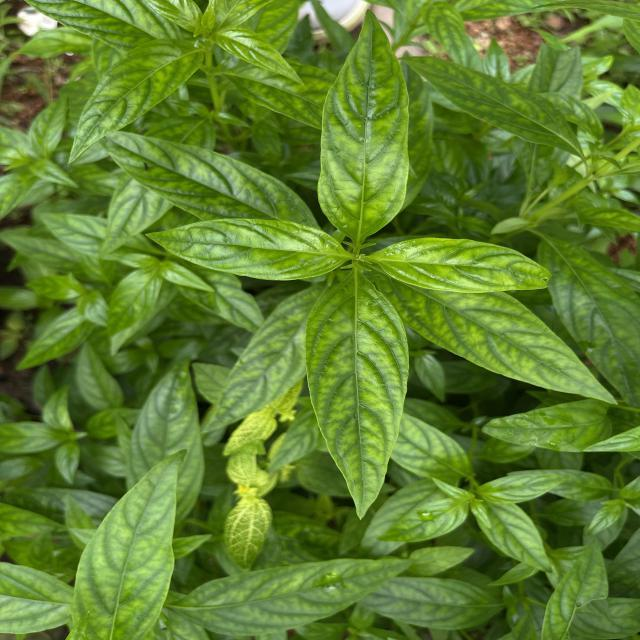Andrographis paniculata: (302, 272, 412, 526), (408, 288, 621, 406), (66, 448, 188, 640), (316, 6, 413, 241), (98, 131, 320, 229), (178, 556, 414, 638), (400, 54, 582, 160), (65, 36, 206, 165), (200, 281, 310, 436), (142, 216, 350, 282), (374, 233, 554, 296), (359, 576, 505, 634), (478, 398, 612, 454), (212, 25, 306, 87), (474, 502, 554, 574), (374, 498, 468, 544), (106, 263, 162, 337), (100, 47, 101, 51)
